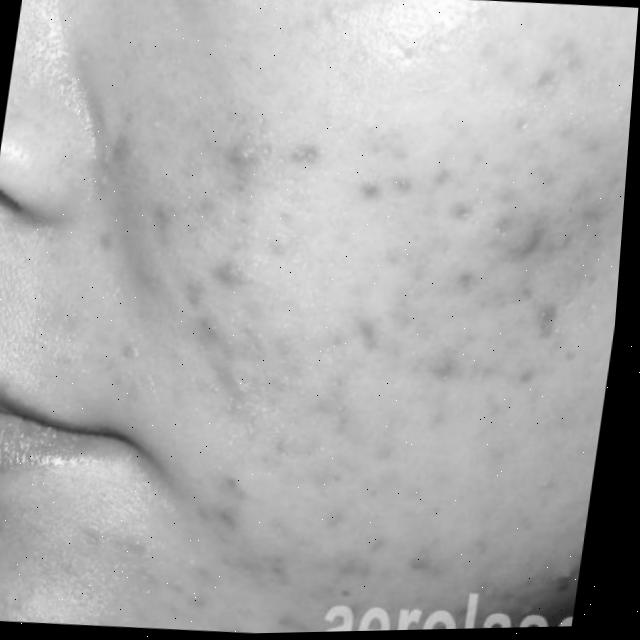Acne: (55, 15, 638, 616)
